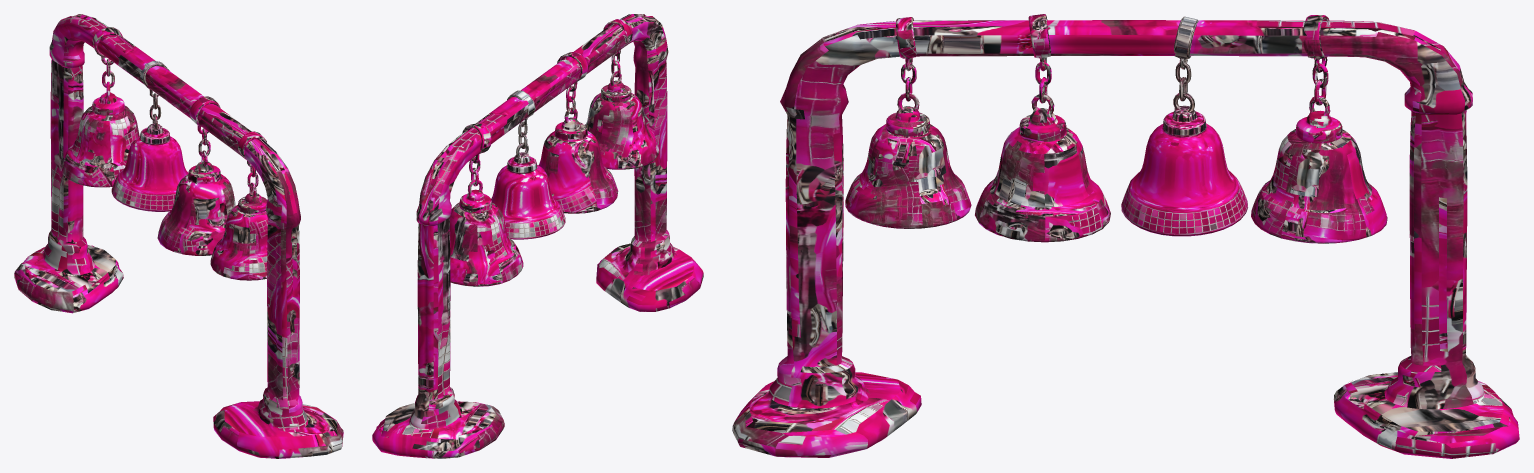
File: 未命名.fbx
3 views of the same model, side by side, from view 1: azimuth 30°, elevation 25°; view 2: azimuth 150°, elevation 25°; view 3: azimuth 270°, elevation 25° (orthographic). The views are drawn at different scales.
Parts seen in each view (by area): view 1: tripo_node_a0b48011, tripo_node_b3e6daa7, tripo_node_40ac104b, tripo_node_eabbeb59, tripo_node_b652edb0; view 2: tripo_node_a0b48011, tripo_node_40ac104b, tripo_node_b3e6daa7, tripo_node_b652edb0, tripo_node_eabbeb59; view 3: tripo_node_a0b48011, tripo_node_40ac104b, tripo_node_b3e6daa7, tripo_node_eabbeb59, tripo_node_b652edb0.
Boxes of the visible parts, x1,y1,x2,y2 form: tripo_node_a0b48011: [14, 14, 343, 458]; tripo_node_b3e6daa7: [157, 96, 235, 255]; tripo_node_40ac104b: [61, 27, 139, 187]; tripo_node_eabbeb59: [111, 60, 188, 211]; tripo_node_b652edb0: [210, 131, 267, 280]; tripo_node_a0b48011: [372, 14, 703, 458]; tripo_node_40ac104b: [449, 123, 523, 286]; tripo_node_b3e6daa7: [538, 52, 618, 213]; tripo_node_b652edb0: [585, 19, 659, 169]; tripo_node_eabbeb59: [491, 90, 565, 239]; tripo_node_a0b48011: [732, 20, 1519, 458]; tripo_node_40ac104b: [1251, 15, 1387, 243]; tripo_node_b3e6daa7: [975, 14, 1110, 242]; tripo_node_eabbeb59: [1121, 16, 1247, 236]; tripo_node_b652edb0: [845, 17, 971, 228].
Size of the model in its own units: 91.26 by 253 by 440.
